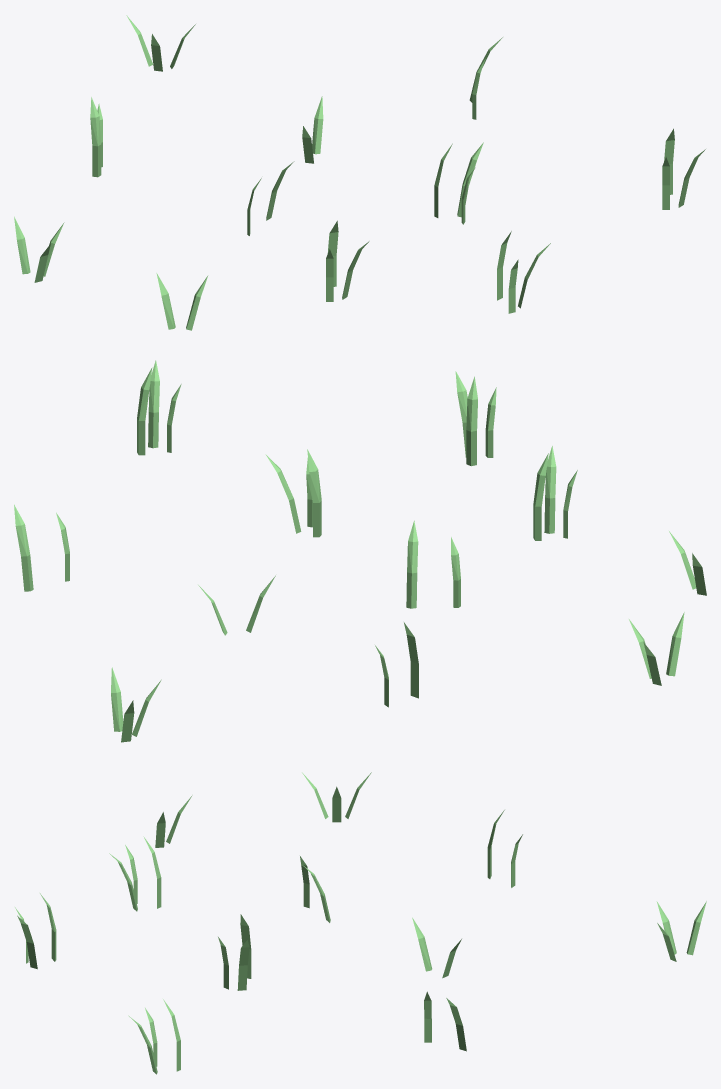
File: Grass2.fbx
The picture shows the model from 3 angles, top to bottom: view 1: azimuth 30°, elevation 25°; view 2: azimuth 150°, elevation 25°; view 3: azimuth 270°, elevation 25°; orthographic projection. The views are drawn at different scales.
Parts seen in each view (by area): view 1: Grass2; view 2: Grass2; view 3: Grass2.
Part boxes in pixels (x1,y1,x2,y2): Grass2: [14, 15, 705, 330]; Grass2: [14, 360, 706, 742]; Grass2: [15, 772, 706, 1074].
Bounding box in the file's own units: 5.17 × 0.7051 × 5.66.
